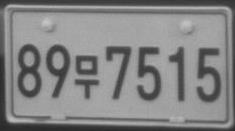1: (166, 45, 192, 102)
5: (195, 46, 222, 102), (136, 45, 161, 101)
7: (104, 44, 131, 100)
8: (16, 42, 41, 97)
9: (44, 43, 70, 99)
무: (73, 54, 99, 99)
